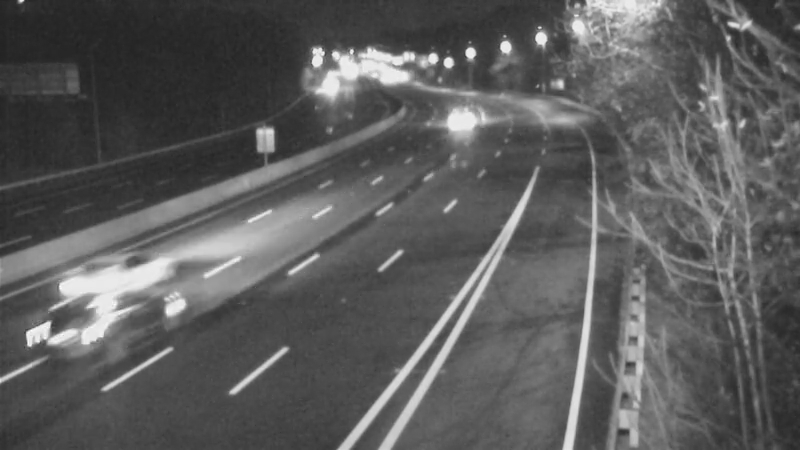vehicle: (9, 278, 119, 388), (57, 235, 137, 315), (437, 97, 487, 147)
